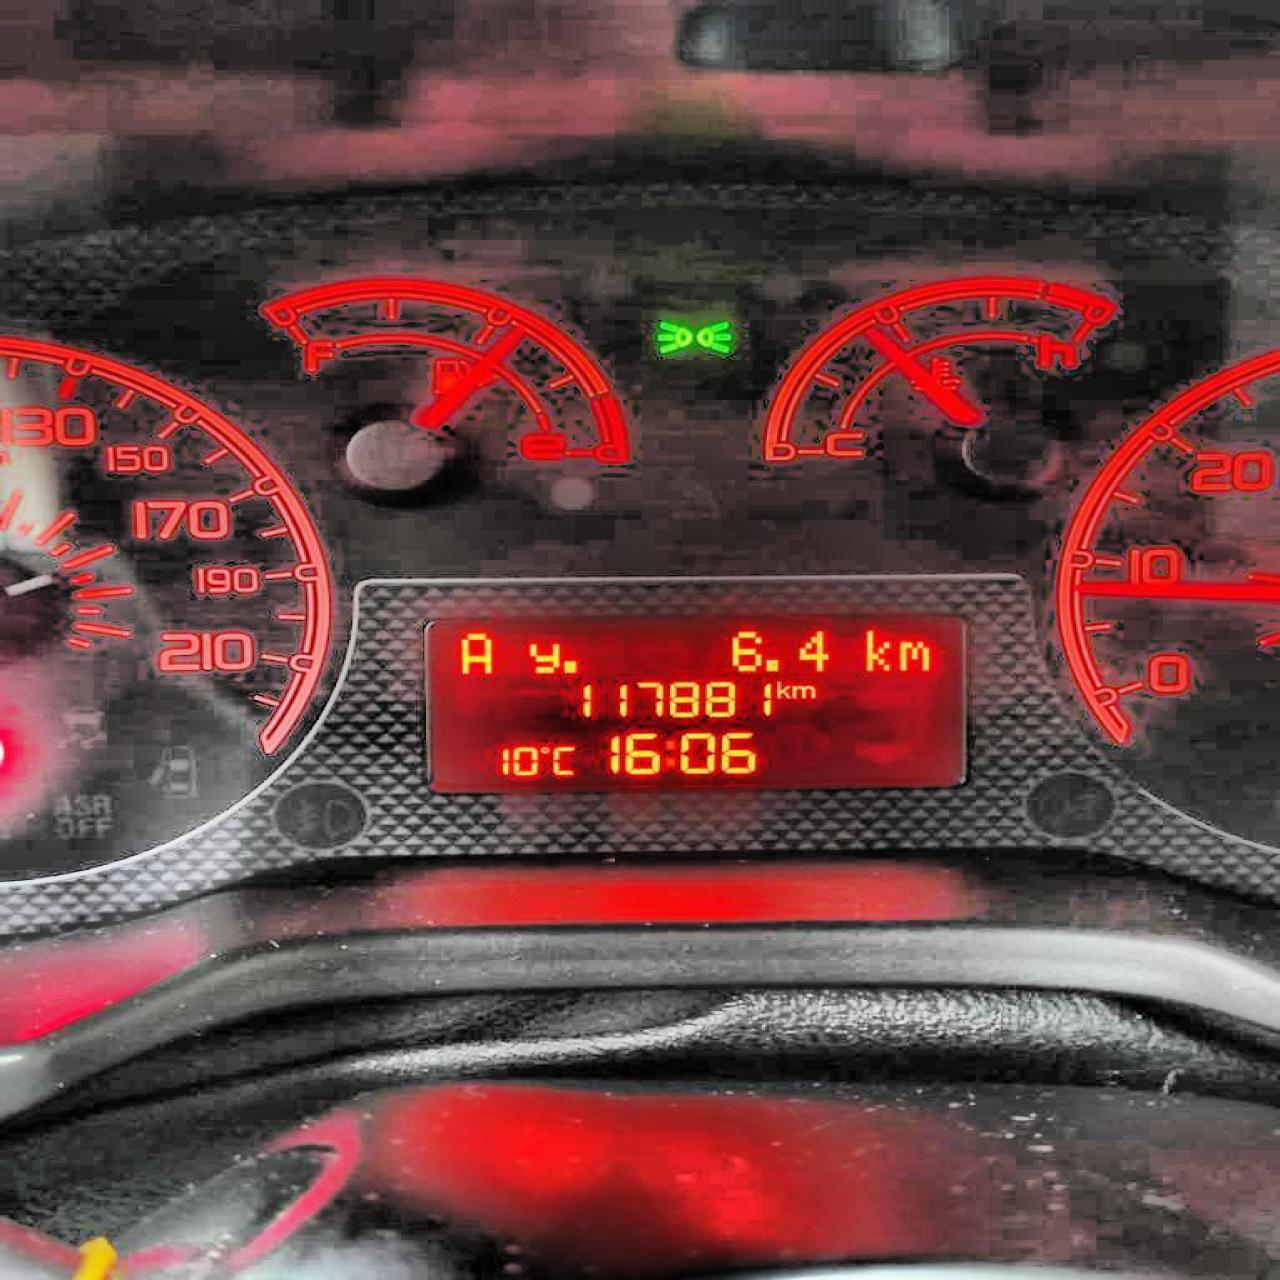-: (762, 656, 782, 674), (561, 658, 578, 674)
0: (678, 731, 717, 775), (511, 745, 537, 775)
1: (605, 731, 620, 776), (615, 680, 629, 720), (580, 680, 593, 720), (761, 680, 771, 717), (499, 745, 509, 776)
4: (792, 627, 832, 672)
6: (719, 730, 757, 775), (621, 730, 659, 775), (729, 627, 762, 673)
7: (633, 679, 665, 716)
8: (667, 680, 700, 717), (703, 680, 735, 717)
X: (863, 626, 893, 674), (458, 631, 491, 675), (896, 636, 934, 672), (526, 640, 560, 674), (551, 744, 577, 776), (789, 682, 816, 699), (662, 737, 673, 769), (774, 679, 789, 699)
odometer: (416, 599, 979, 799)
